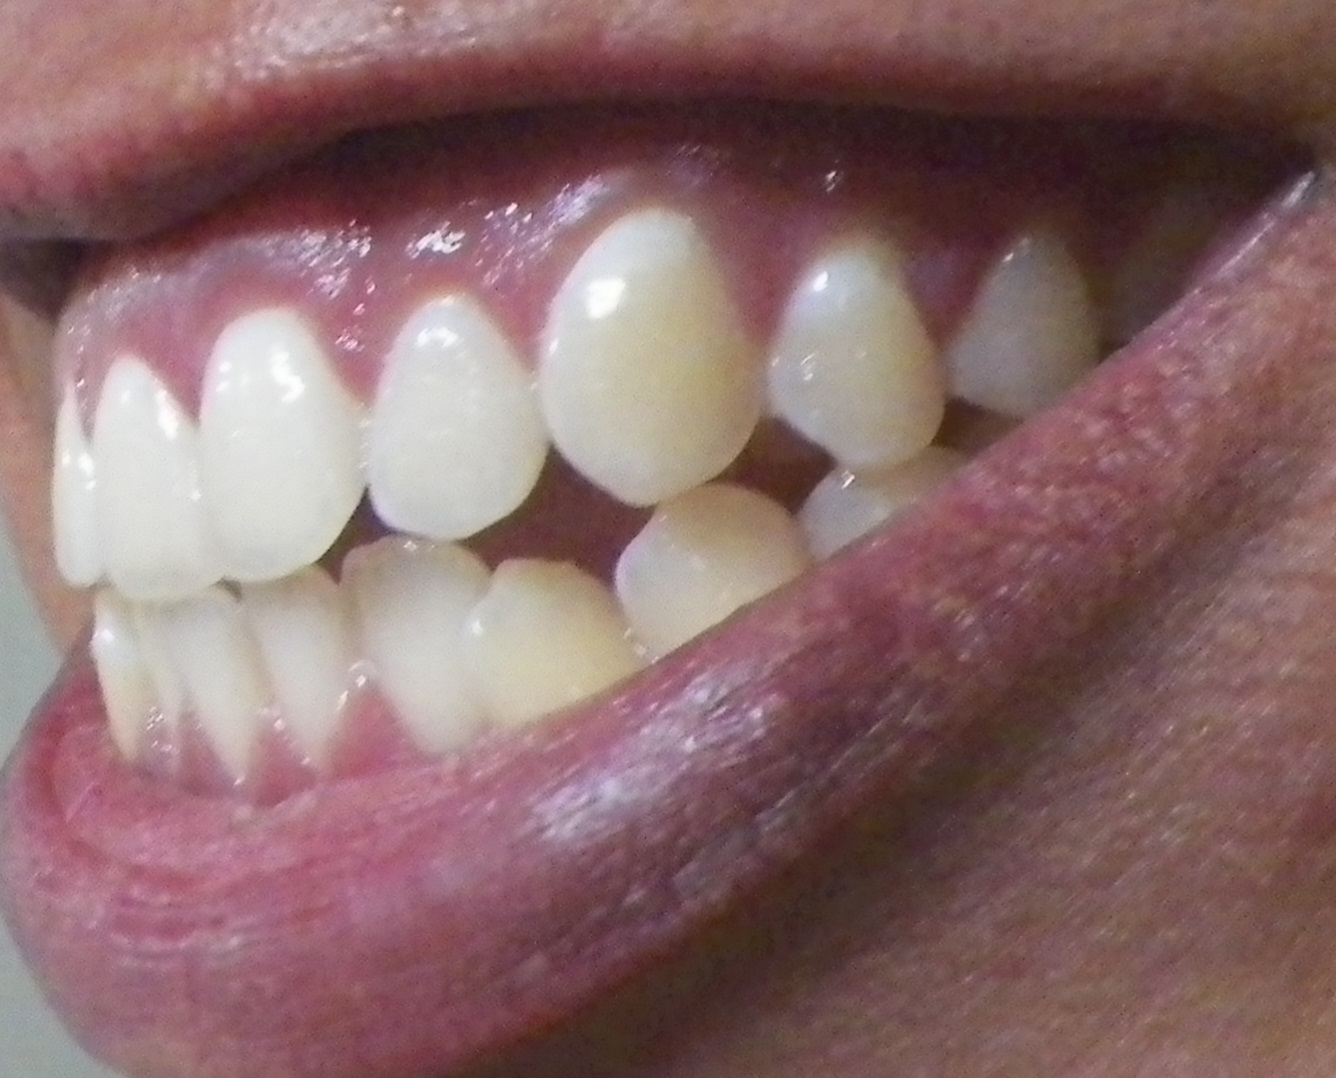boca: (48, 228, 1117, 784)
